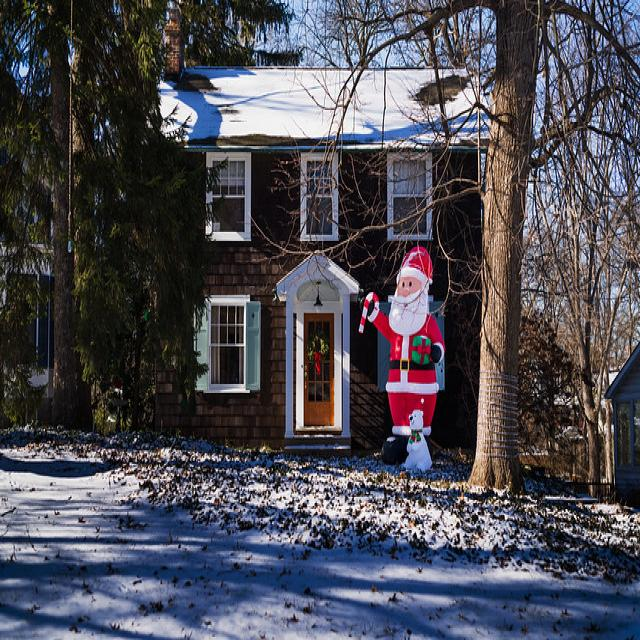Normal_building: (125, 56, 517, 467)
